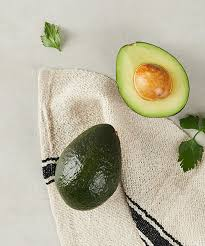avocado: (117, 41, 190, 117)
